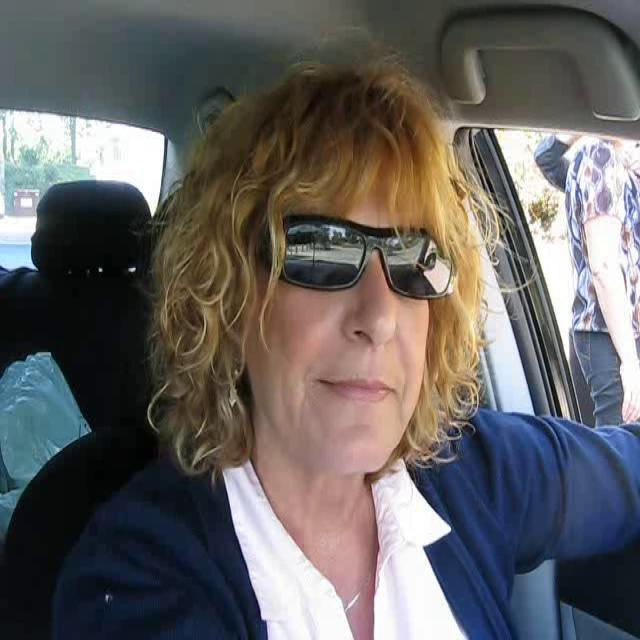close: (310, 372, 404, 408)
